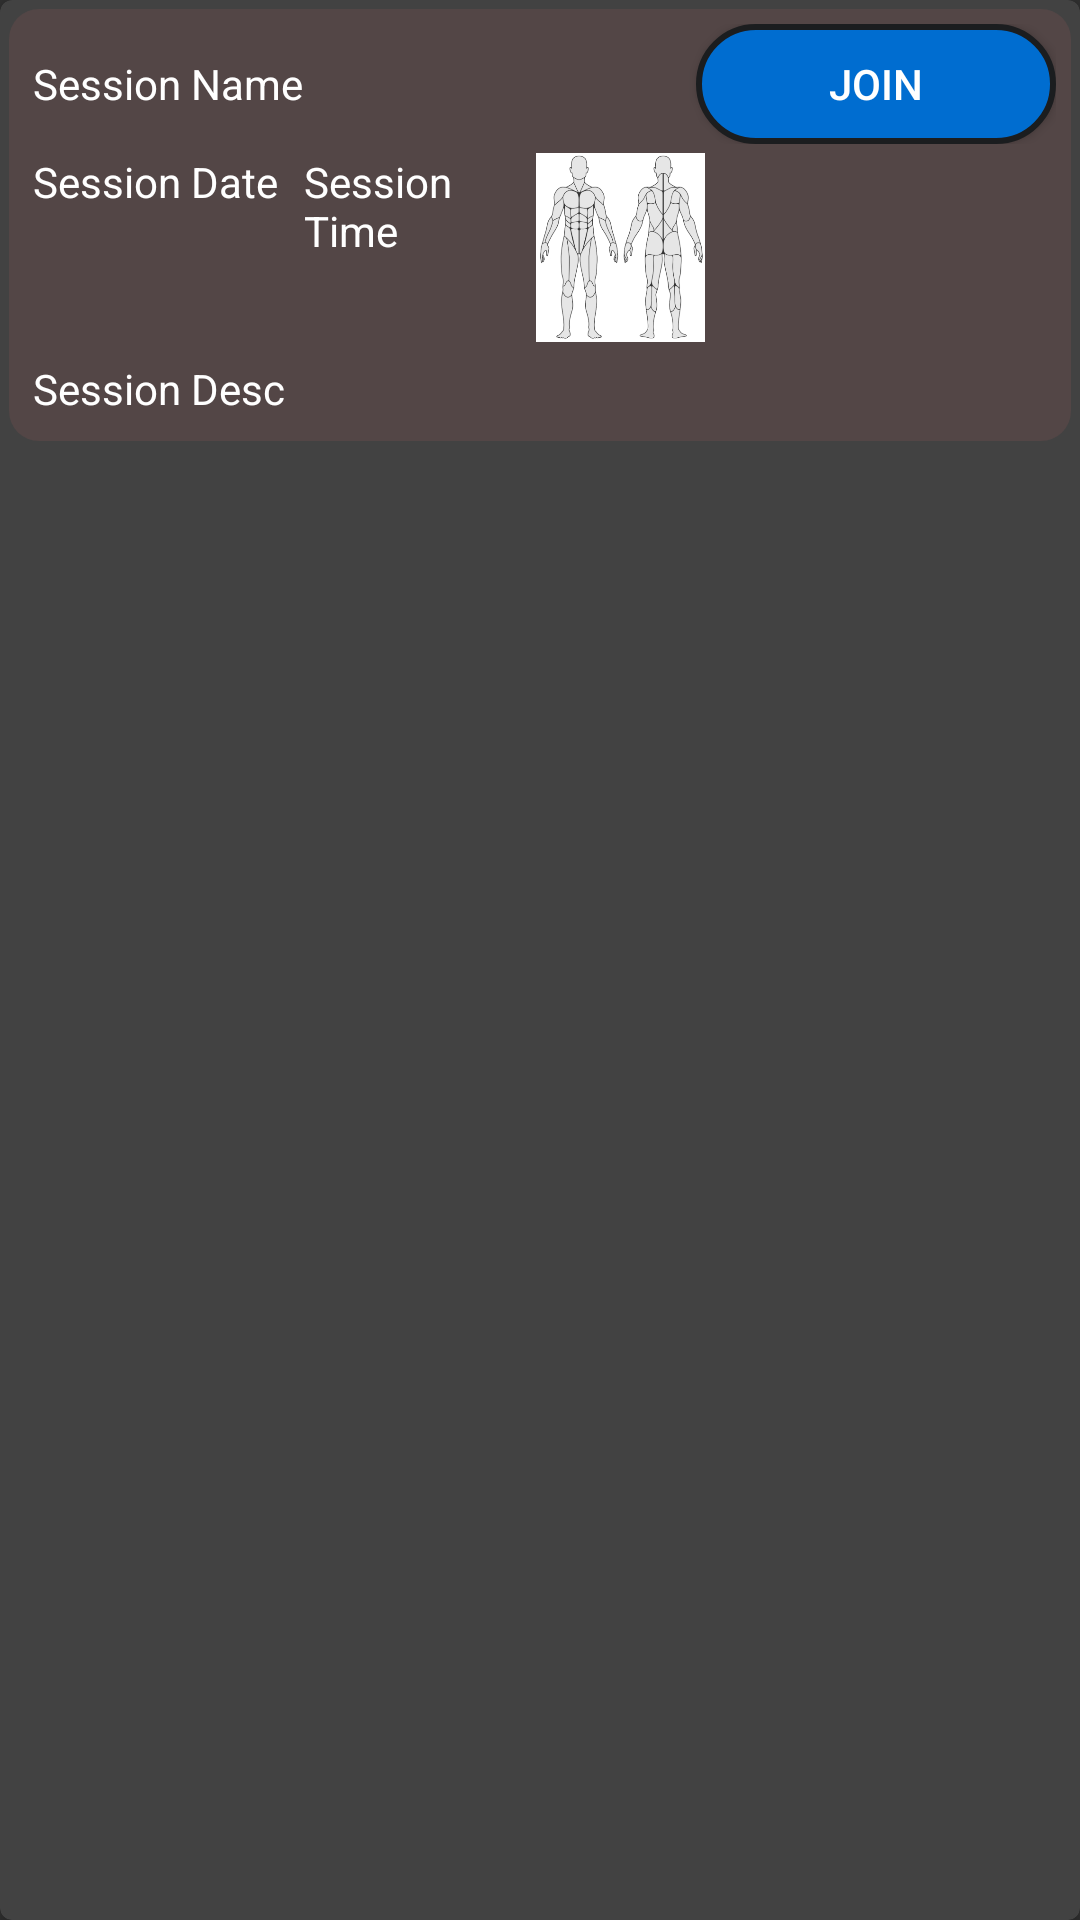

Icons on this 1080 x 1920 Android screen, each with its box as bbox=(x1, y1, x2, y2):
base muscle select: bbox=(536, 153, 705, 342)
